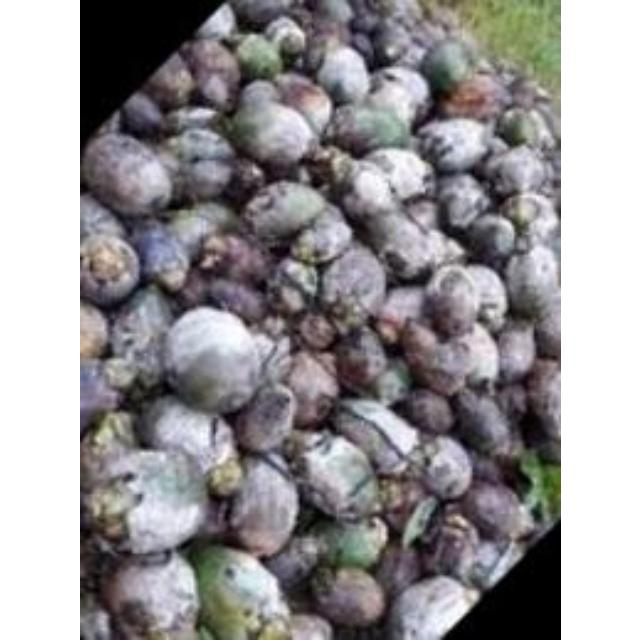damaged: (87, 448, 207, 556), (187, 542, 287, 640), (99, 549, 200, 637), (290, 432, 382, 520), (81, 132, 172, 218), (223, 454, 300, 554), (136, 396, 234, 472), (334, 398, 421, 478), (360, 209, 444, 283), (383, 574, 477, 640), (403, 322, 485, 396), (107, 291, 175, 377), (242, 181, 330, 247), (316, 246, 386, 320), (308, 565, 386, 627), (449, 388, 515, 460), (278, 351, 340, 427), (79, 416, 141, 492), (79, 232, 141, 306), (501, 245, 559, 323), (232, 384, 296, 454), (331, 324, 394, 394), (162, 200, 238, 256), (308, 516, 386, 570), (198, 232, 272, 288), (415, 118, 489, 174), (418, 509, 478, 578), (410, 434, 472, 500), (181, 38, 241, 106), (422, 264, 480, 334), (458, 478, 522, 540), (360, 148, 430, 202), (81, 478, 140, 542), (330, 105, 408, 153), (336, 160, 396, 220), (484, 144, 550, 196), (272, 76, 331, 134), (142, 49, 198, 110), (312, 45, 370, 103), (80, 363, 122, 443), (495, 192, 557, 246), (434, 176, 490, 234), (368, 65, 429, 118), (437, 72, 503, 120), (174, 153, 236, 203), (458, 264, 508, 326), (522, 359, 560, 439), (202, 278, 268, 324), (419, 38, 475, 92), (463, 536, 517, 590), (164, 124, 233, 166), (376, 283, 428, 335), (376, 474, 426, 528), (463, 212, 517, 262), (372, 546, 422, 598), (401, 388, 454, 434), (493, 325, 535, 383), (234, 33, 284, 81), (496, 105, 550, 148), (516, 451, 550, 519), (398, 496, 438, 552), (398, 320, 442, 370), (80, 192, 122, 244), (163, 104, 223, 140), (310, 147, 358, 191), (248, 332, 288, 384), (120, 91, 167, 135), (260, 15, 308, 56), (223, 158, 267, 202), (368, 20, 410, 66), (304, 12, 350, 54), (79, 298, 111, 358), (230, 1, 292, 30), (295, 313, 339, 352), (83, 540, 123, 582), (193, 2, 237, 40), (530, 310, 560, 364), (100, 356, 142, 394), (492, 382, 528, 426), (176, 270, 214, 310), (301, 30, 335, 74), (408, 15, 450, 50), (402, 196, 440, 234), (238, 78, 280, 112), (506, 74, 544, 110), (392, 34, 428, 70), (80, 602, 114, 640), (284, 5, 320, 40), (274, 280, 308, 316), (422, 6, 462, 36), (314, 0, 356, 26), (94, 108, 126, 142), (155, 261, 189, 293), (348, 3, 382, 34), (365, 1, 403, 23), (348, 32, 374, 62)
